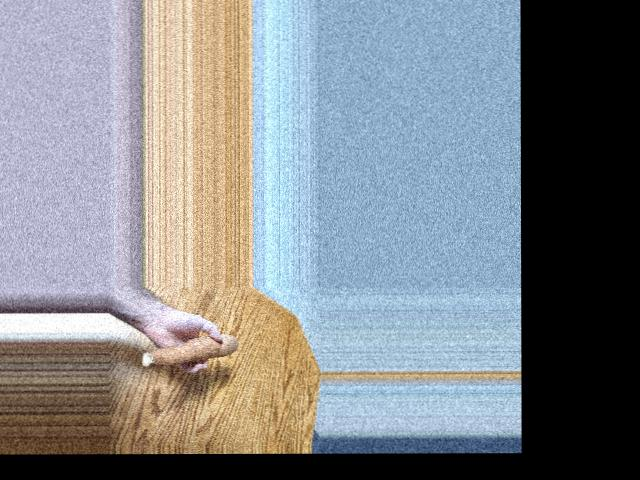sweet_potato: (134, 338, 242, 369)
